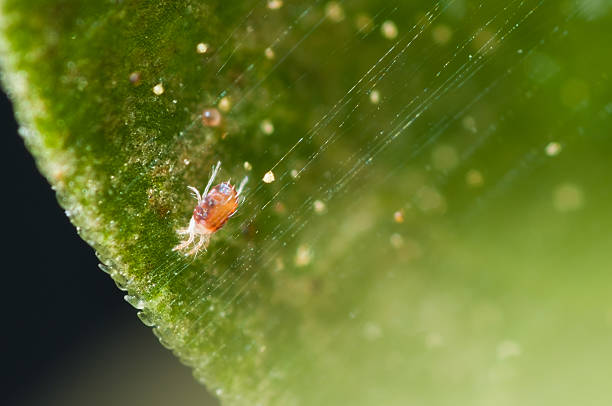Mites: (171, 153, 247, 271)
